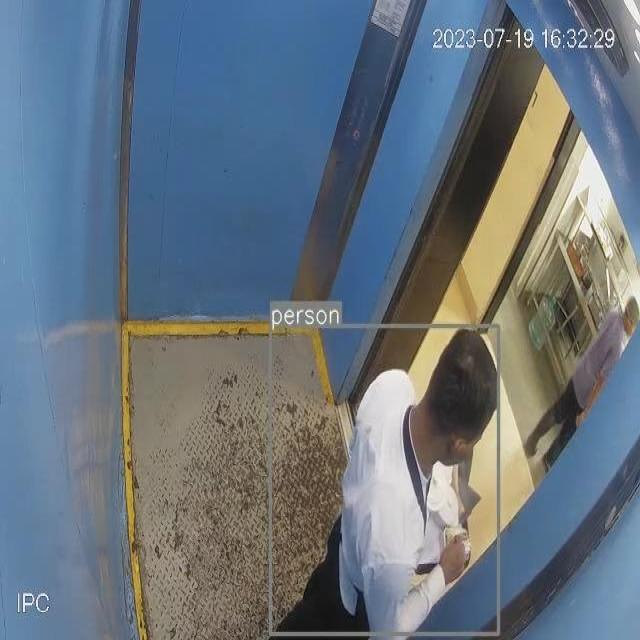person: (273, 324, 498, 633)
